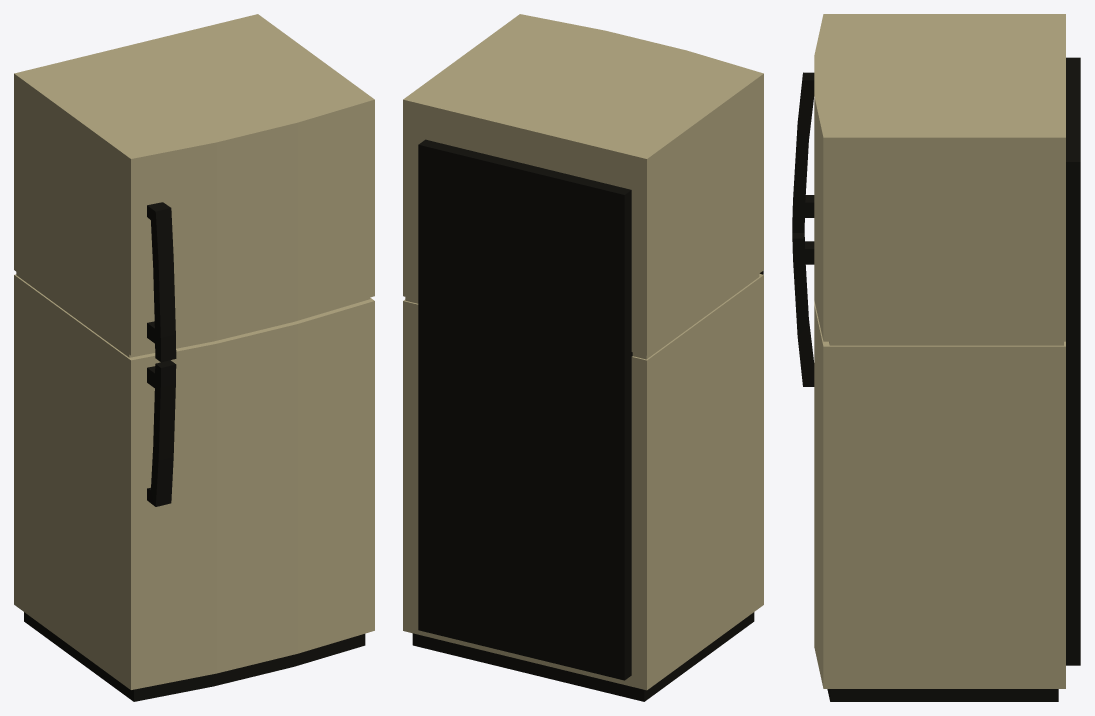
File: fridge.glb
3 renders of one model, left to right at view 1: azimuth 30°, elevation 25°; view 2: azimuth 150°, elevation 25°; view 3: azimuth 270°, elevation 25°, orthographic. The views are drawn at different scales.
Parts seen in each view (by area): view 1: prop_fridge; view 2: prop_fridge; view 3: prop_fridge.
Boxes of the visible parts, x1,y1,x2,y2 form: prop_fridge: [14, 14, 374, 701]; prop_fridge: [403, 14, 763, 701]; prop_fridge: [792, 14, 1080, 701].
Bounding box in the file's own units: 0.8403 × 1.8 × 0.8291.
Materials: 1 (1 with a texture image).
